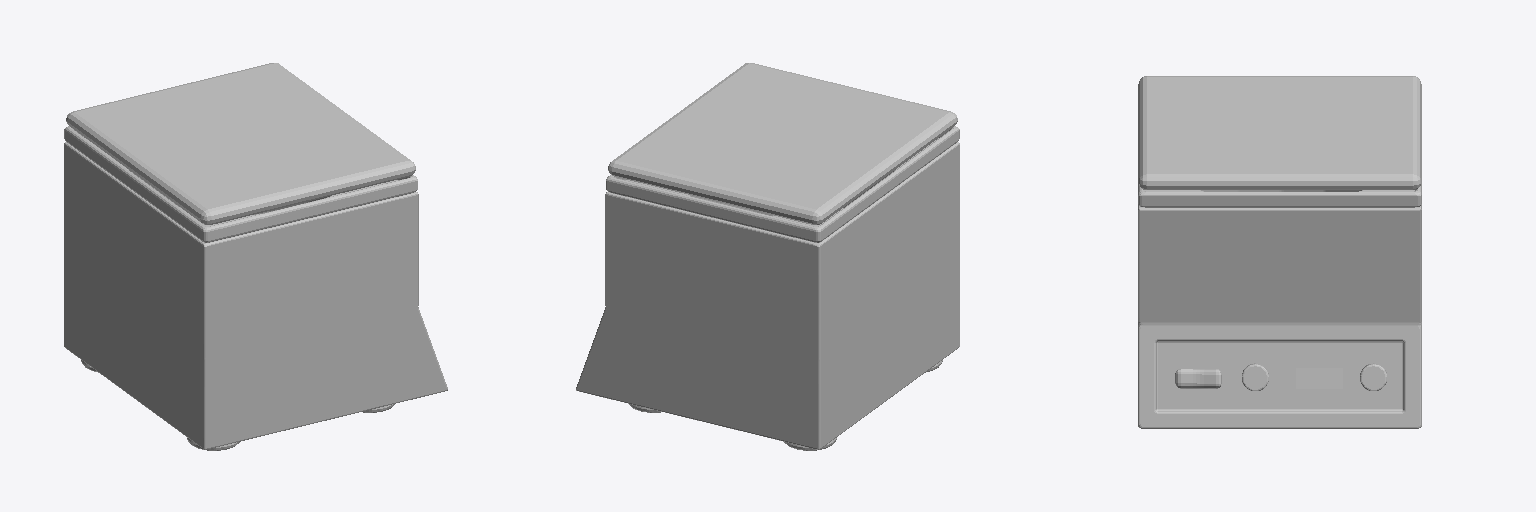
File: centrifuge_closed.obj
3 renders of one model, left to right at view 1: azimuth 30°, elevation 25°; view 2: azimuth 150°, elevation 25°; view 3: azimuth 270°, elevation 25°, orthographic.
Visible parts, largest first — view 1: corpo_Cube, tampe_fechada_Cube.002, base_tampa_Cube.008; view 2: corpo_Cube, tampe_fechada_Cube.002, base_tampa_Cube.008; view 3: corpo_Cube, tampe_fechada_Cube.002, base_tampa_Cube.008, painelzinho_Cube.004, switch_Cube.003.
Part boxes in pixels (x1,y1,x2,y2): corpo_Cube: (64,138,447,449); tampe_fechada_Cube.002: (66,63,415,224); base_tampa_Cube.008: (64,126,417,242); corpo_Cube: (576,138,959,449); tampe_fechada_Cube.002: (608,63,957,224); base_tampa_Cube.008: (606,126,959,242); corpo_Cube: (1138,190,1421,428); tampe_fechada_Cube.002: (1138,76,1421,189); base_tampa_Cube.008: (1138,182,1421,207); painelzinho_Cube.004: (1296,368,1342,388); switch_Cube.003: (1175,369,1221,388).
Bounding box in the file's own units: 1 × 0.9644 × 1.